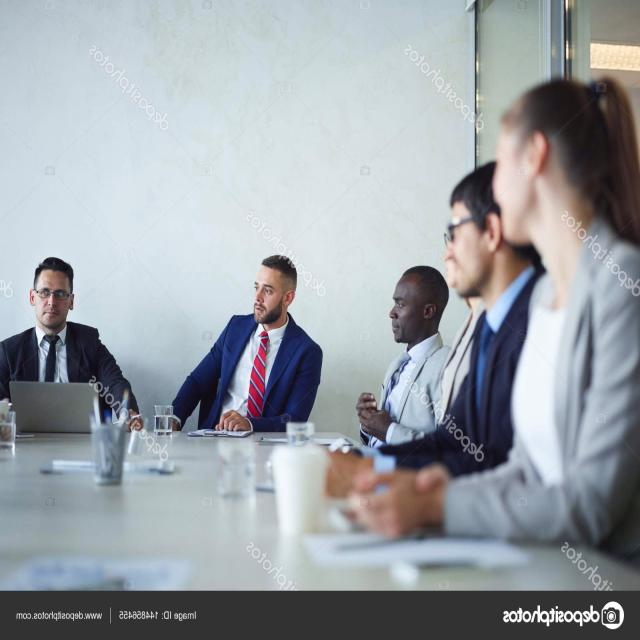adult: (349, 80, 636, 542), (310, 154, 530, 493), (163, 250, 325, 433), (0, 254, 142, 430), (350, 261, 450, 450)
